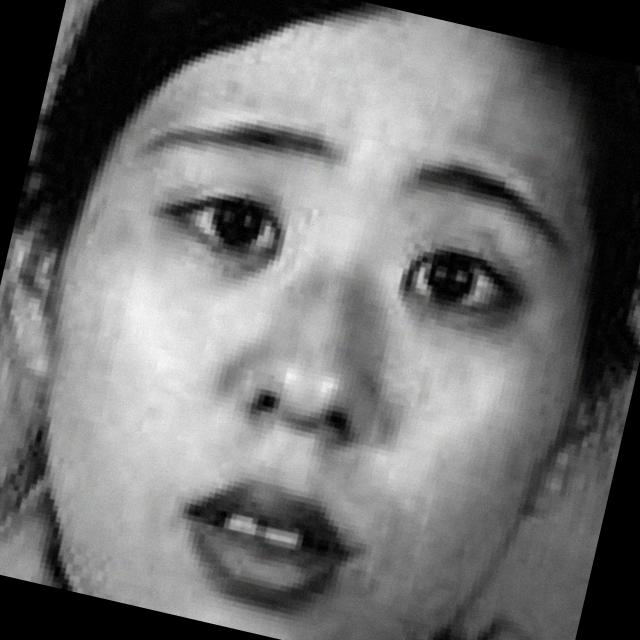fear: (67, 1, 610, 640)
